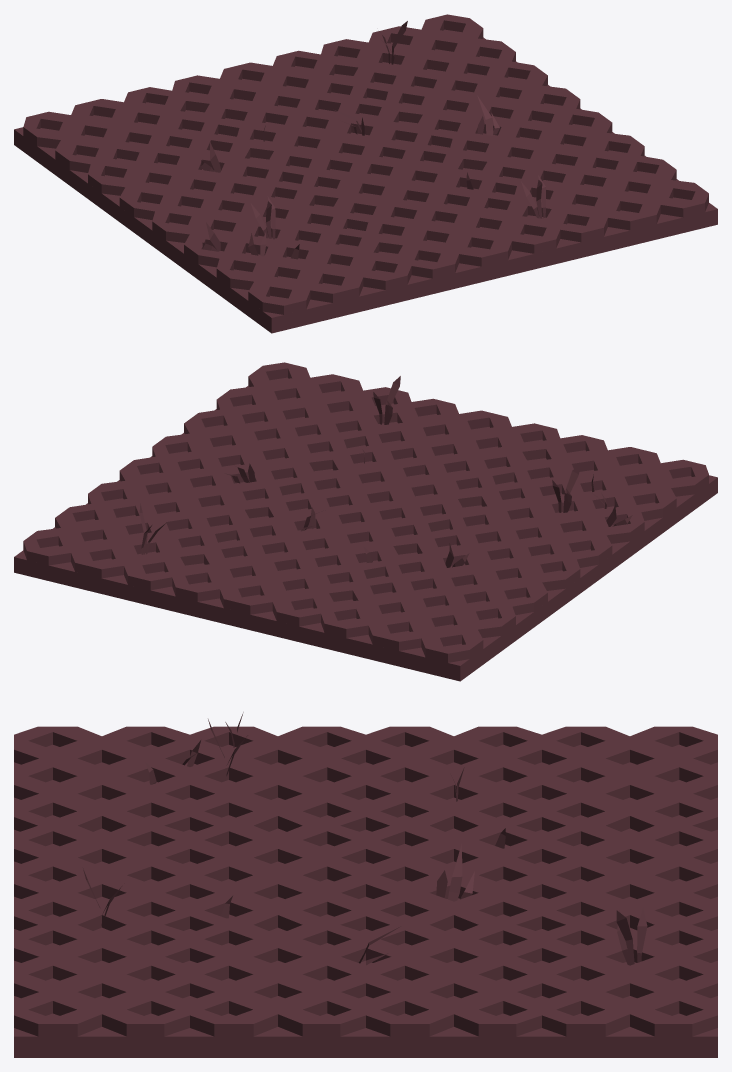
Rendered from floor-concrete-3x3m.fbx.
3 renders of one model, top to bottom at view 1: azimuth 30°, elevation 25°; view 2: azimuth 150°, elevation 25°; view 3: azimuth 270°, elevation 25°, orthographic. The views are drawn at different scales.
Parts seen in each view (by area): view 1: floor-concrete-3x3m; view 2: floor-concrete-3x3m; view 3: floor-concrete-3x3m.
Part boxes in pixels (x1,y1,x2,y2): floor-concrete-3x3m: (14,14,717,333); floor-concrete-3x3m: (14,362,717,681); floor-concrete-3x3m: (14,712,717,1057).
Size of the model in its own units: 3 by 0.4146 by 3.
